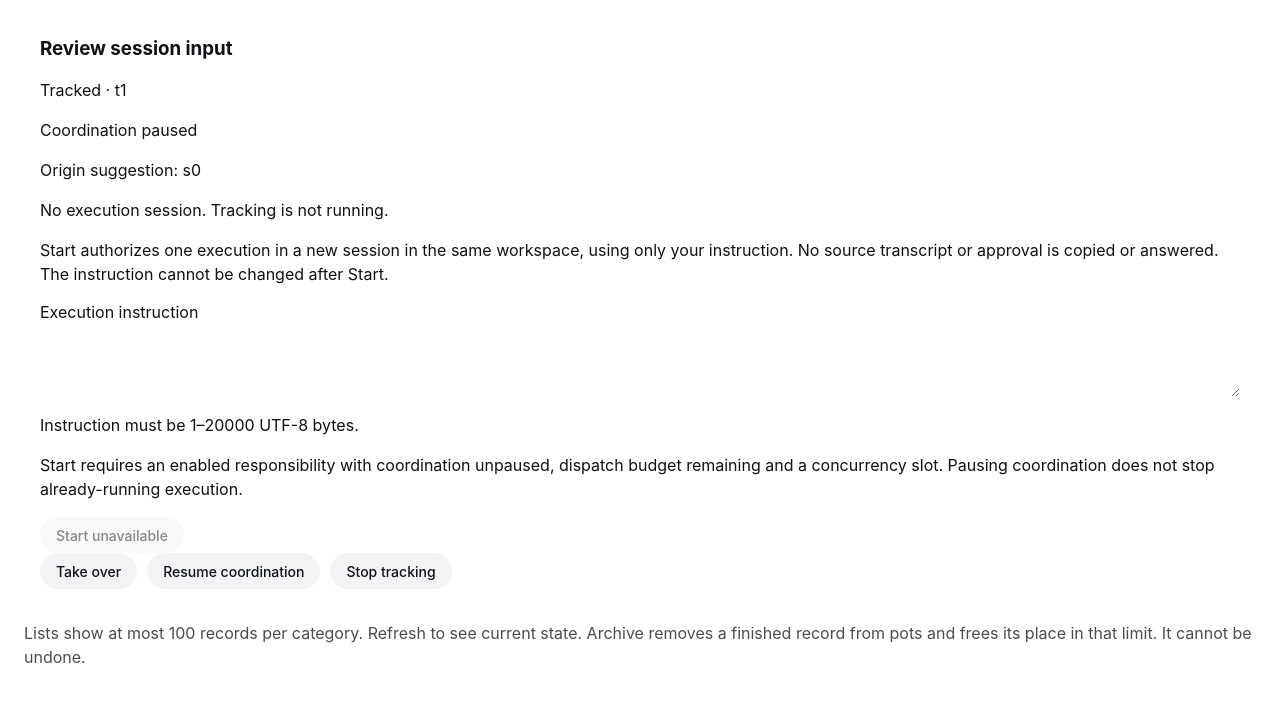
pots tracking checkpoint › takes over with the control generation and fences further coordination
(page scrolled)
Click the button "Take over" at (89, 572), box [40,554,137,590]
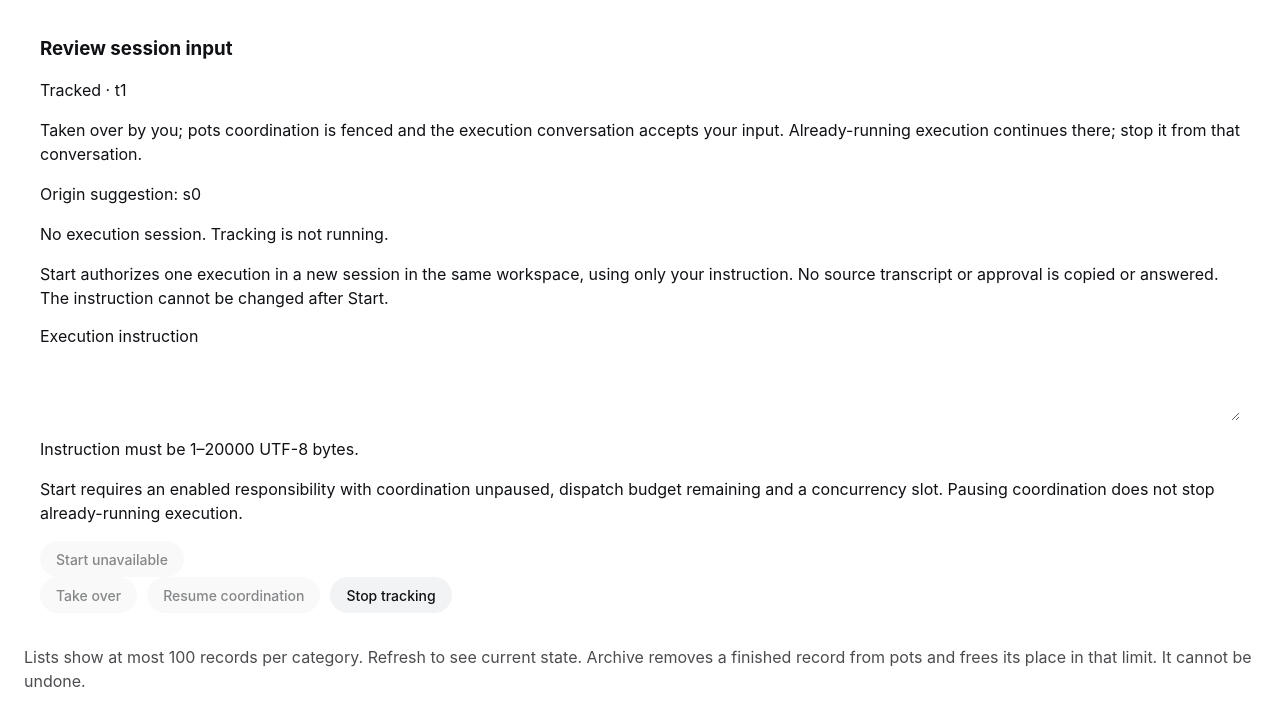
Now the text "pots coordination is fenced" is shown, box [40,120,1240,164]
Now the text "execution conversation accepts your input" is shown, box [40,120,1240,164]
Now the button "Take over" is disabled, box [40,578,137,614]
